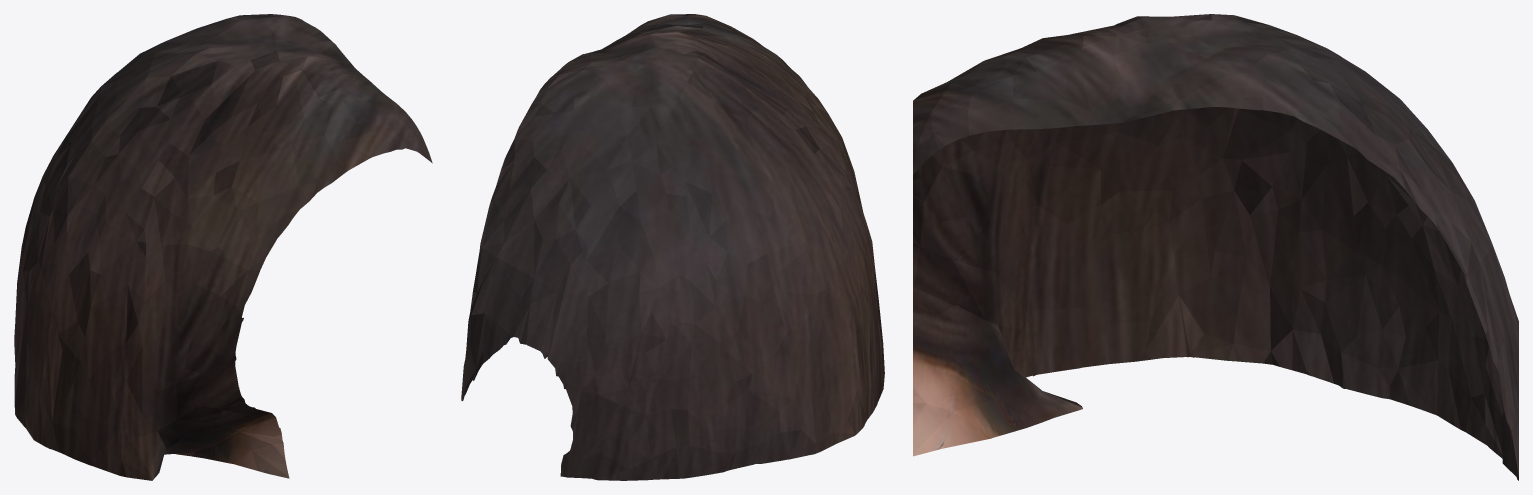
3 renders of one model, left to right at view 1: azimuth 30°, elevation 25°; view 2: azimuth 150°, elevation 25°; view 3: azimuth 270°, elevation 25°, orthographic. The views are drawn at different scales.
Visible parts, largest first — view 1: 091_W_Aya_100K_01; view 2: 091_W_Aya_100K_01; view 3: 091_W_Aya_100K_01.
Boxes of the visible parts, x1,y1,x2,y2 form: 091_W_Aya_100K_01: (14,14,432,480); 091_W_Aya_100K_01: (461,14,884,480); 091_W_Aya_100K_01: (913,14,1518,480).
Size of the model in its own units: 129 by 145 by 171.
Materials: 1 (1 with a texture image).
